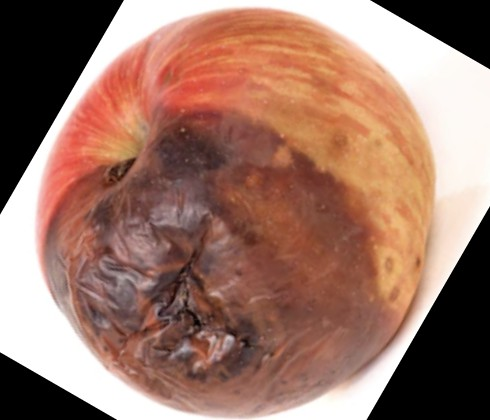rotten_apple: (34, 6, 436, 420)
